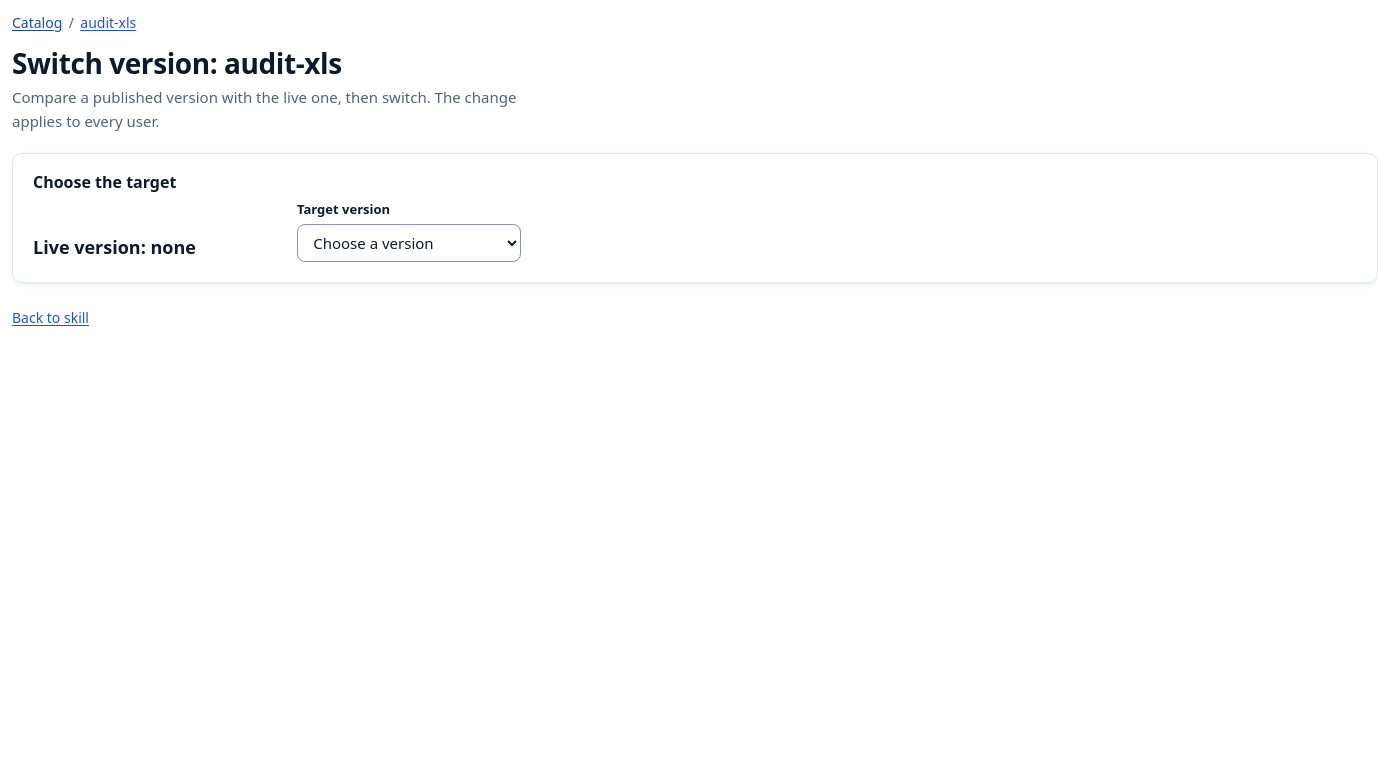
Test: Switch › maps a 403 not_reviewer to a plain message
Select "v1" in the dropdown labelled "Target version" at (409, 242), box [297,224,521,262]
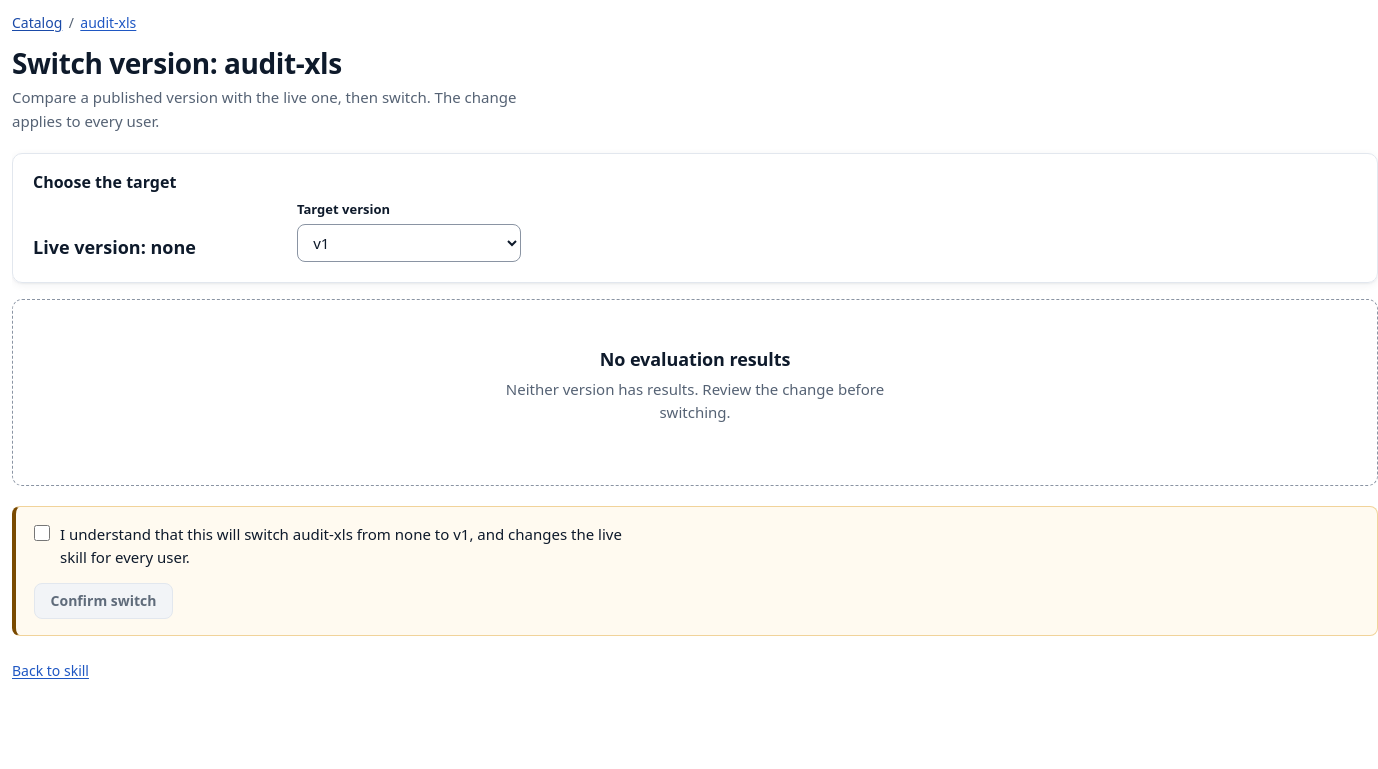
Click the checkbox labelled "I understand" at (42, 533), box [34,525,50,541]
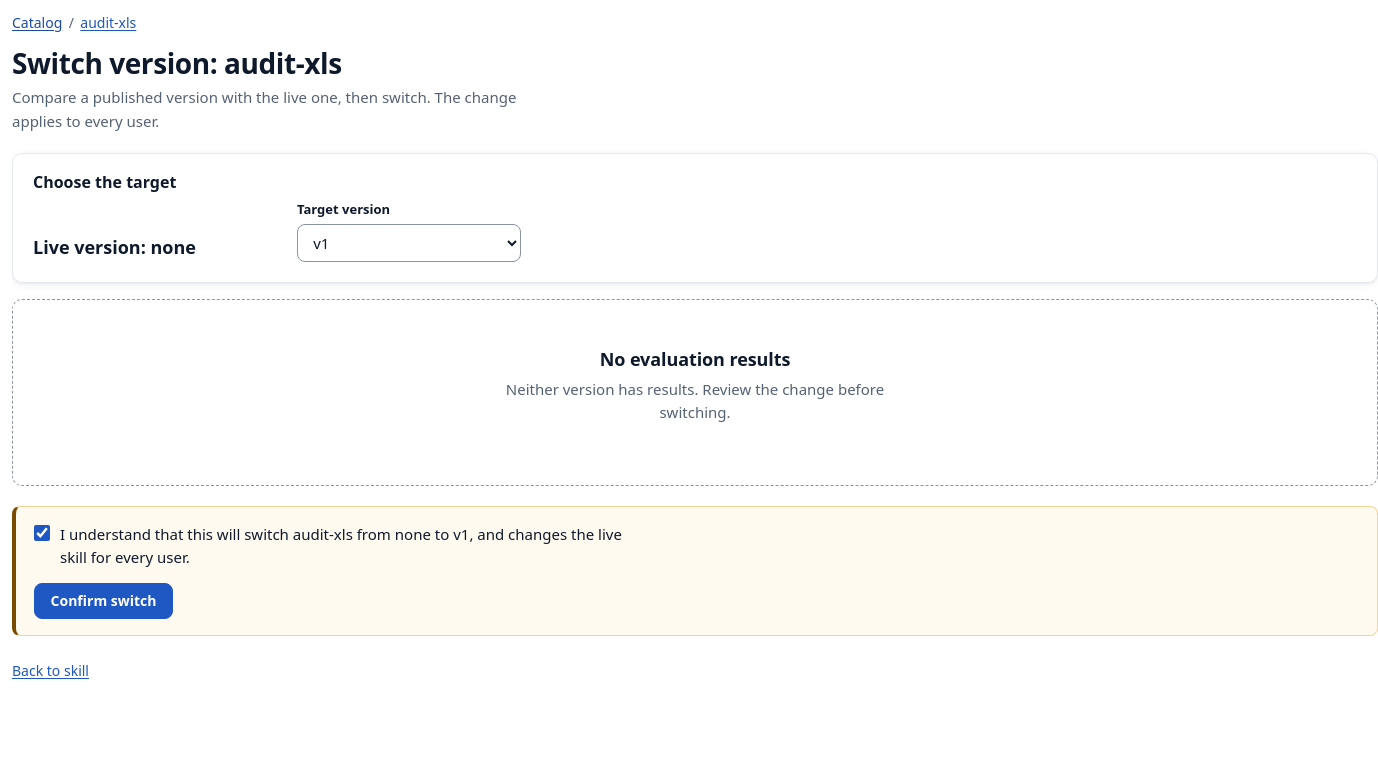
Click the button "Confirm switch" at (104, 601), box [34,583,173,619]
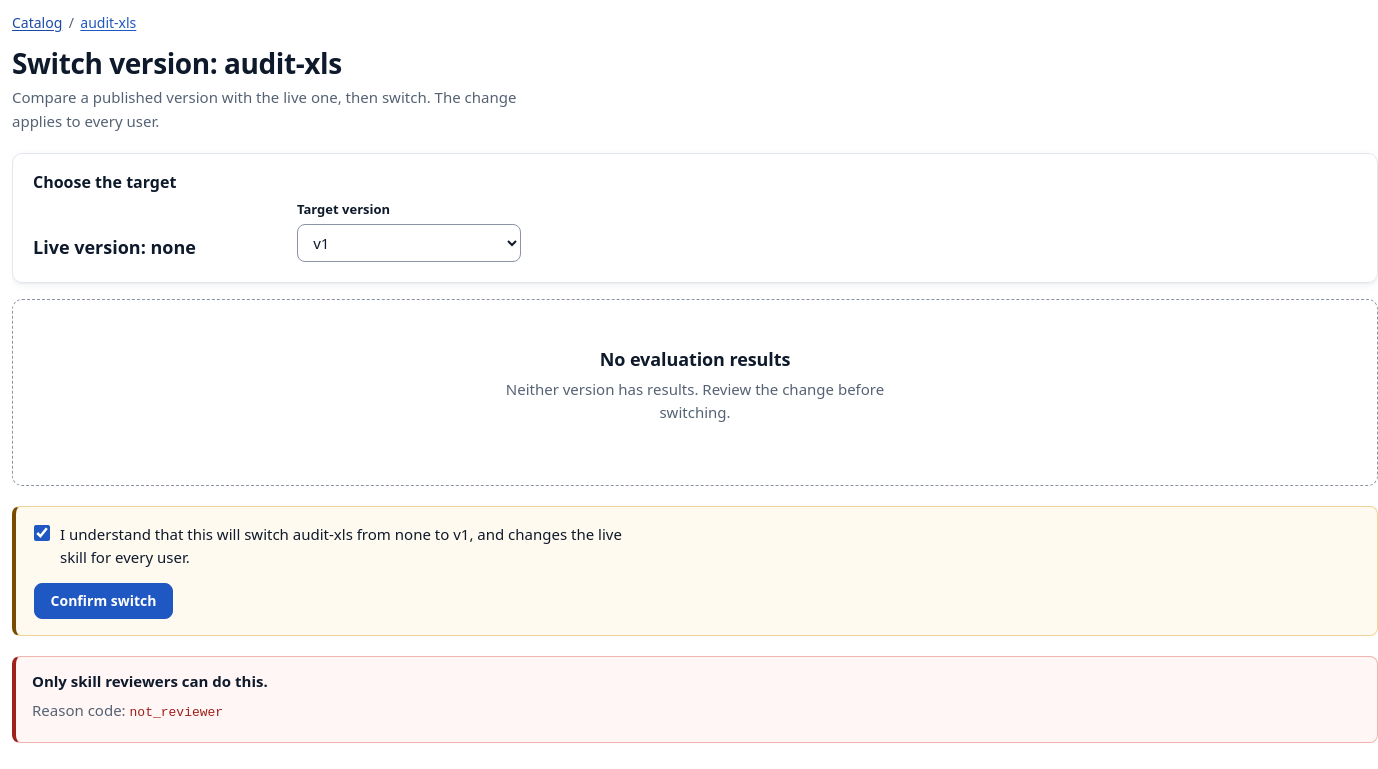
Now the message shows "Only skill reviewers", box [32,671,268,691]
